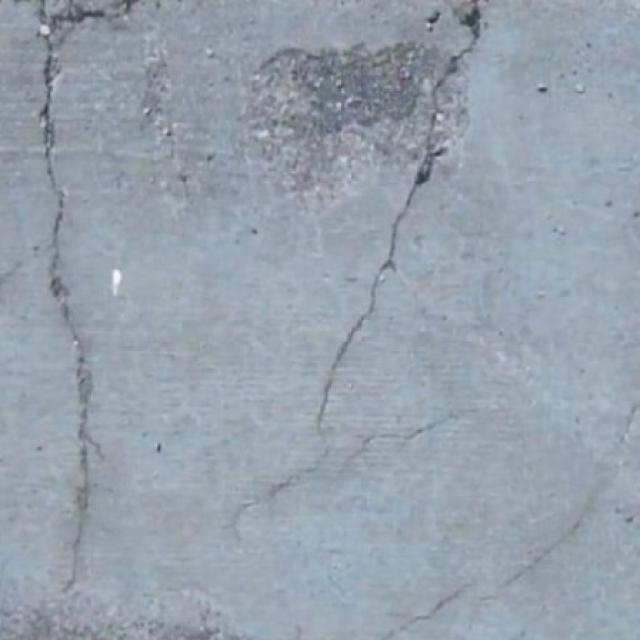Diagonal Crack: (235, 0, 484, 544), (480, 398, 640, 599), (343, 407, 484, 471), (382, 574, 479, 640)
Vertical Crack: (33, 0, 140, 594)
